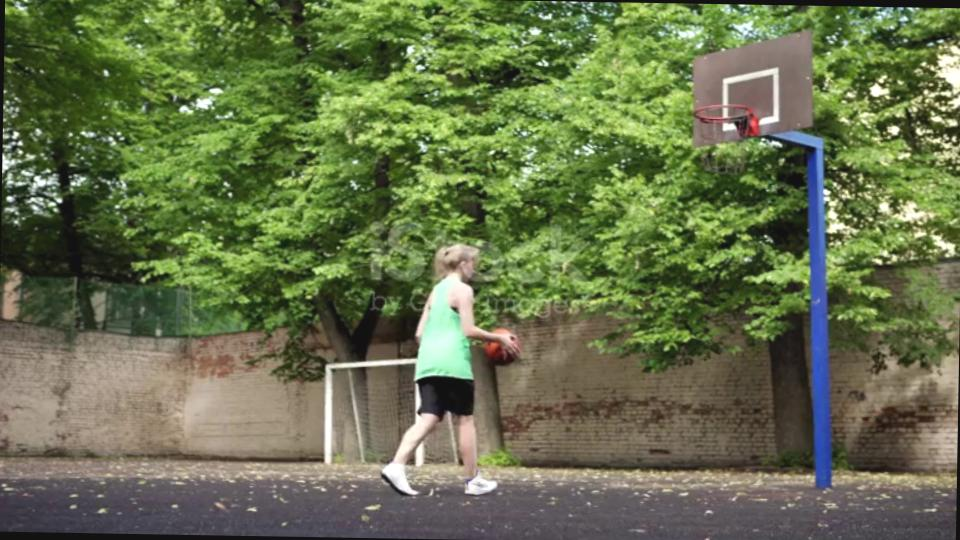hoop: (691, 101, 753, 126)
